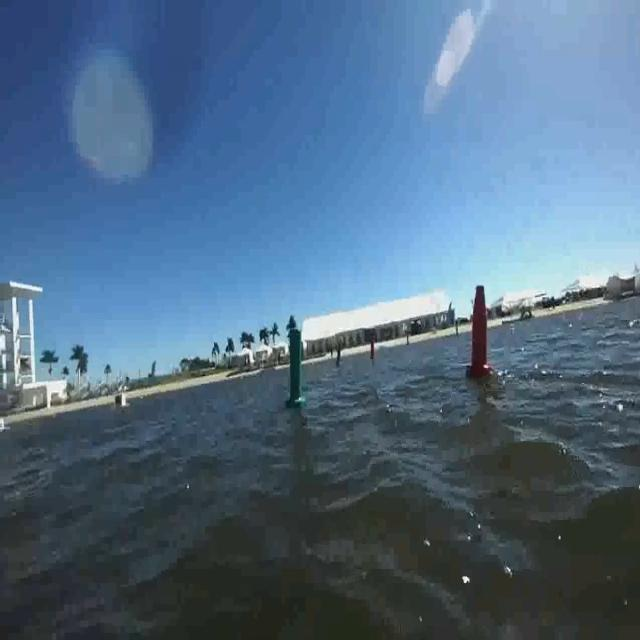green-column-buoy: (284, 323, 306, 408)
red-column-buoy: (467, 282, 494, 380), (368, 338, 376, 362)
